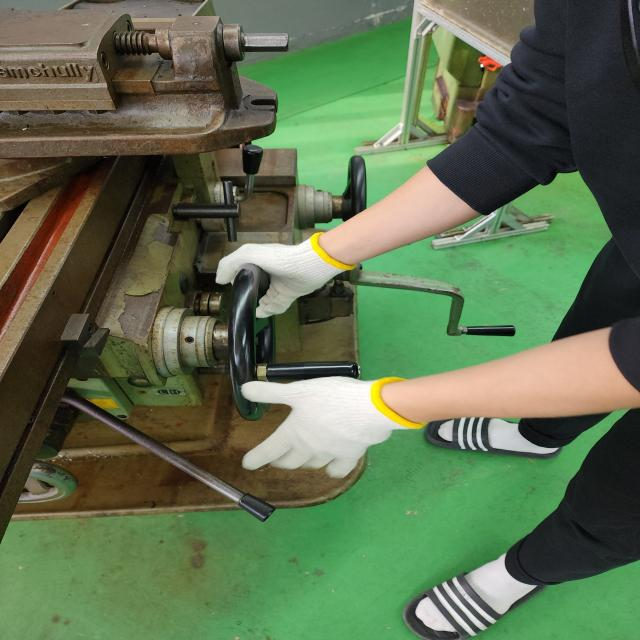Boots: (242, 376, 426, 480), (209, 224, 361, 323)
